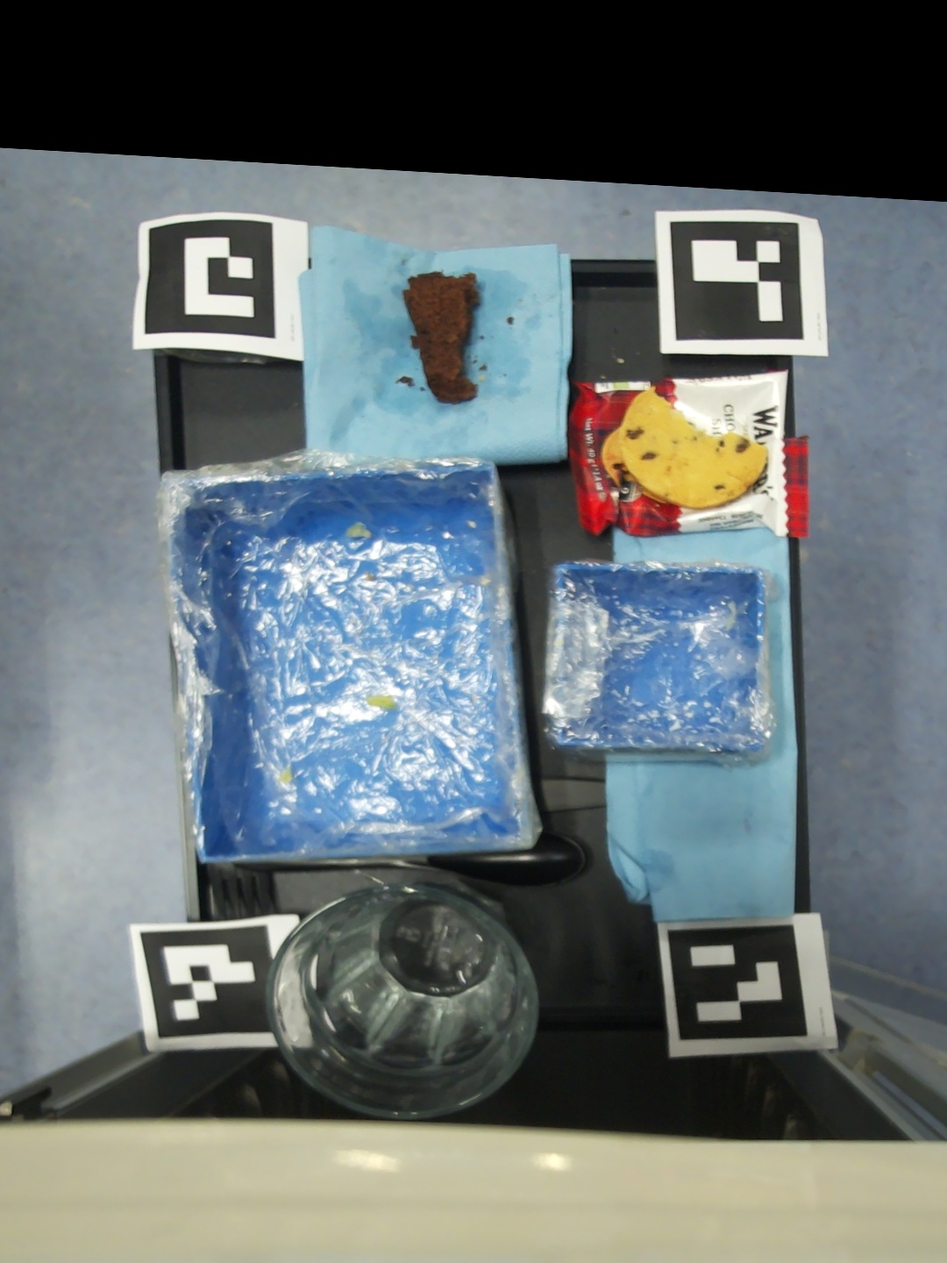brownie: (402, 272, 479, 404), (396, 376, 413, 386), (478, 365, 486, 371), (508, 317, 512, 324)
cookie: (570, 369, 809, 537)
water_bottle: (266, 878, 537, 1118)
wrap_half_1: (365, 695, 396, 710), (346, 522, 372, 539), (279, 768, 293, 784)
